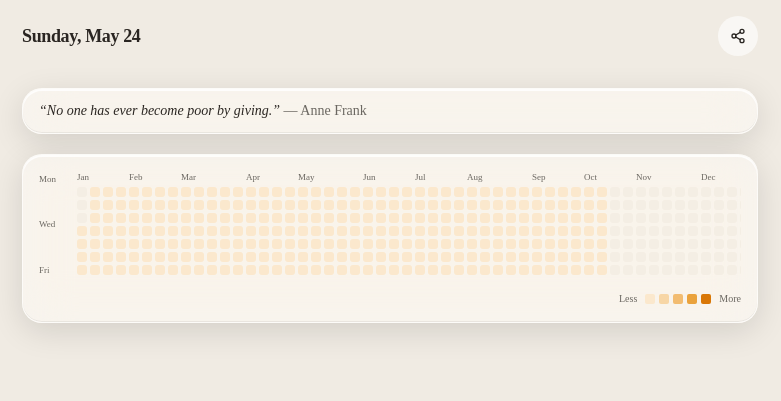
Test case: NoteScreen › share status (R3.4) › reports failure when no clipboard exists at all
Click the button named "share this day" at (738, 36), box left=718, top=16, right=758, bottom=56
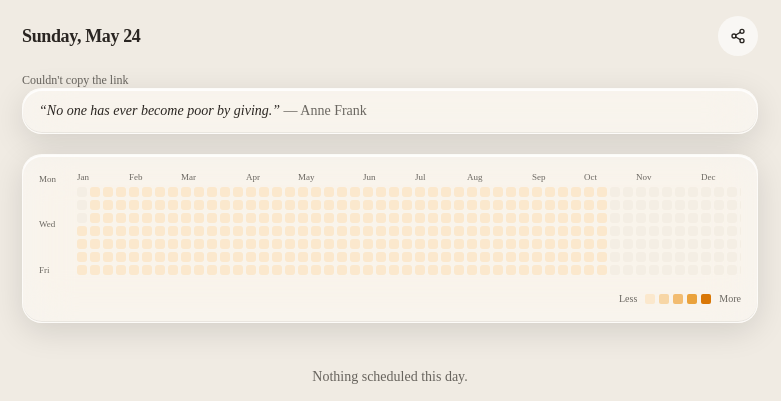
Result: the text "Couldn't copy the link" is shown at left=22, top=73, right=128, bottom=87
